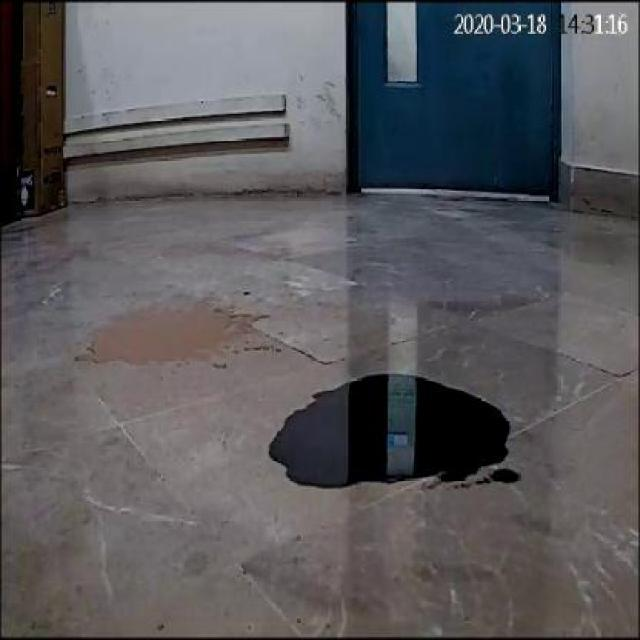spill: (265, 373, 510, 493)
